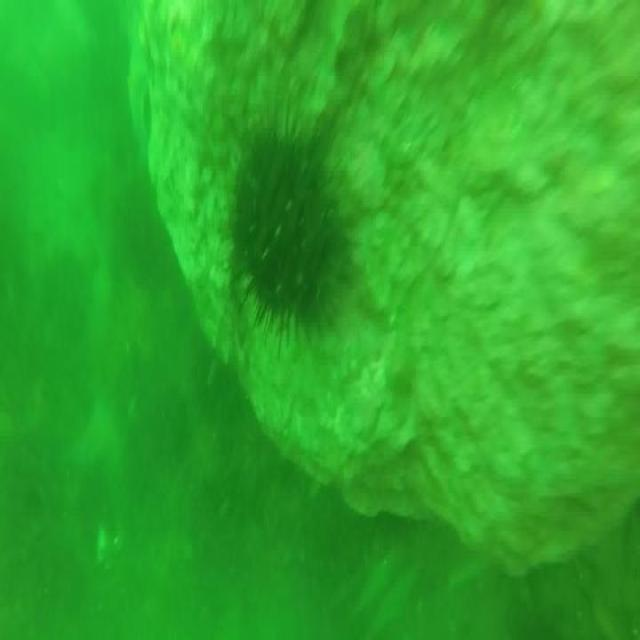echinus: (226, 95, 356, 359)
